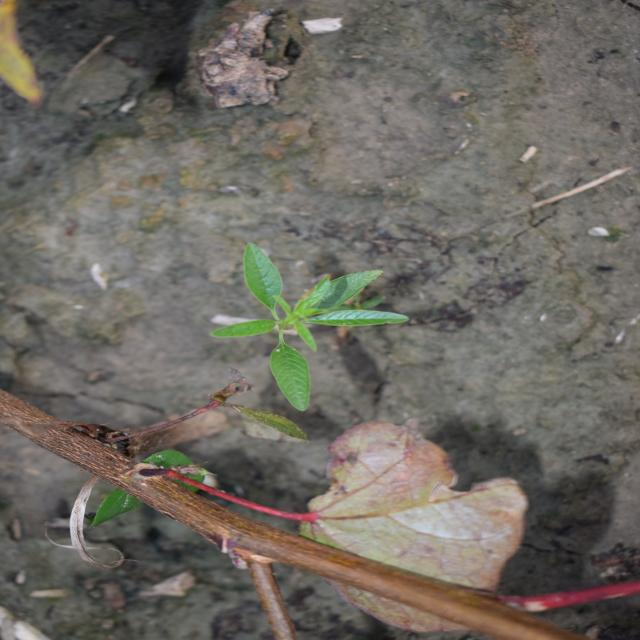Waterhemp: (207, 240, 413, 414)
